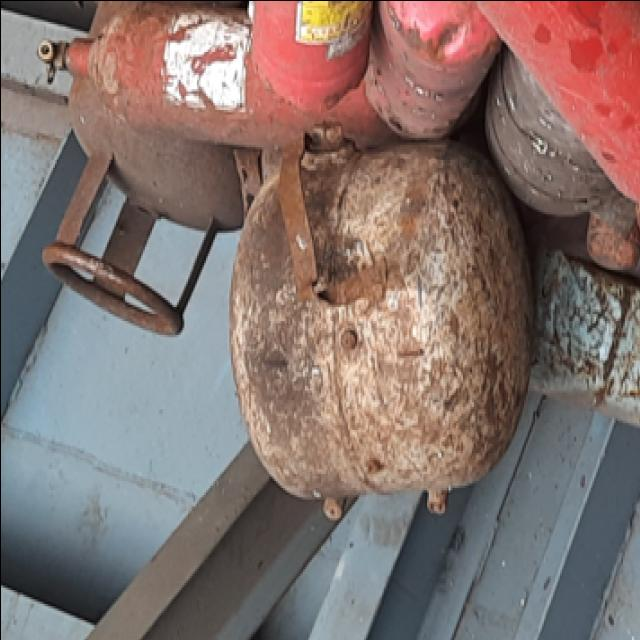cylinder: (228, 120, 535, 521), (41, 71, 242, 333)
